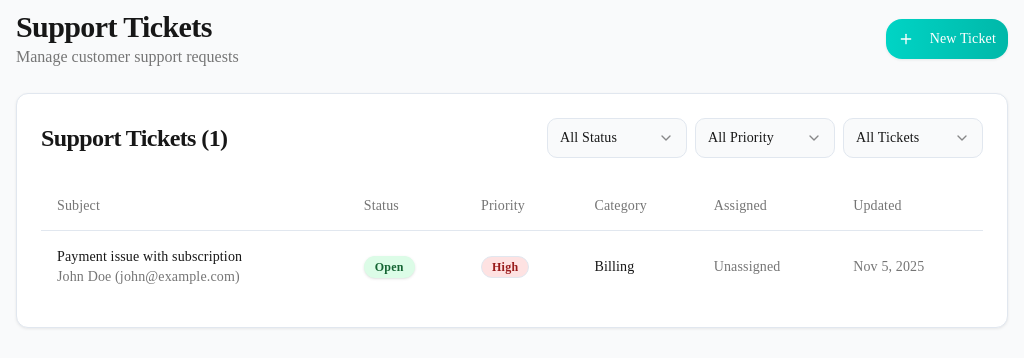
it: Support Tickets Page › filters tickets by assigned status
This screenshot has width=1024, height=358.
Click the dropdown with test id "assigned-filter" at (913,138), box [843, 118, 983, 158]
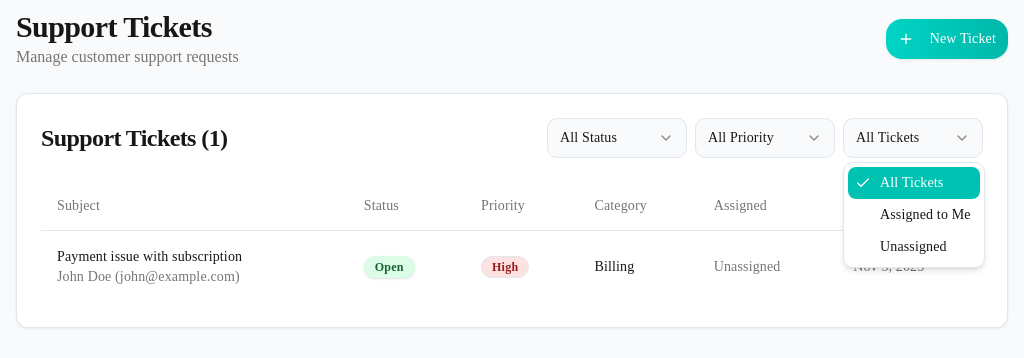
Click the option "Assigned to Me" at (925,214), box [880, 207, 971, 222]
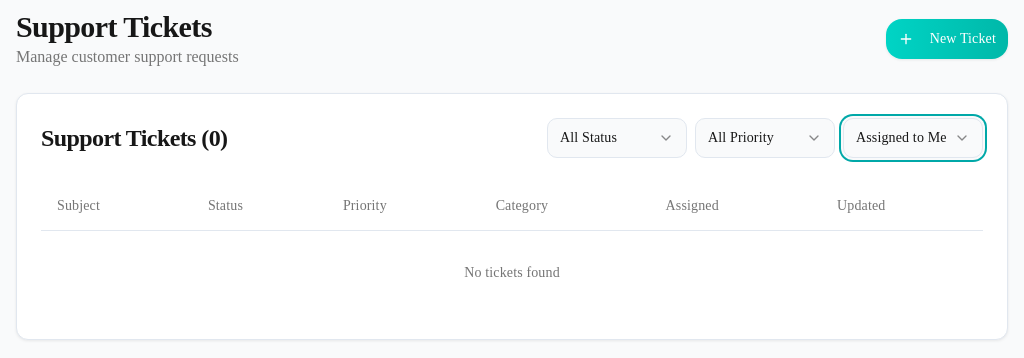
Expected: the text "Payment issue with subscription" is gone
